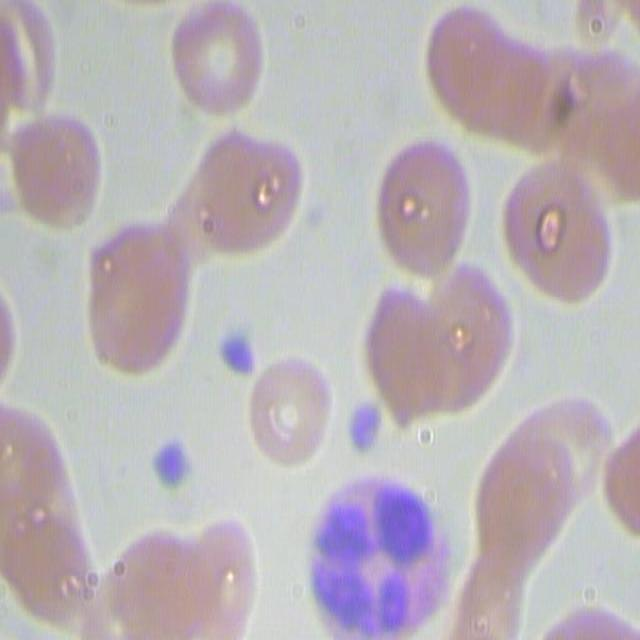RBC: (364, 264, 511, 434), (423, 3, 571, 165), (474, 386, 606, 565), (0, 392, 98, 628), (175, 125, 300, 266), (503, 157, 617, 309), (553, 14, 637, 214), (86, 220, 192, 374), (376, 135, 475, 285), (2, 107, 100, 230), (169, 2, 268, 121), (243, 354, 331, 470), (0, 0, 64, 114), (603, 405, 640, 543)
WBC: (308, 460, 461, 640)
platelets: (150, 430, 196, 500), (217, 321, 261, 383), (342, 396, 383, 461)
